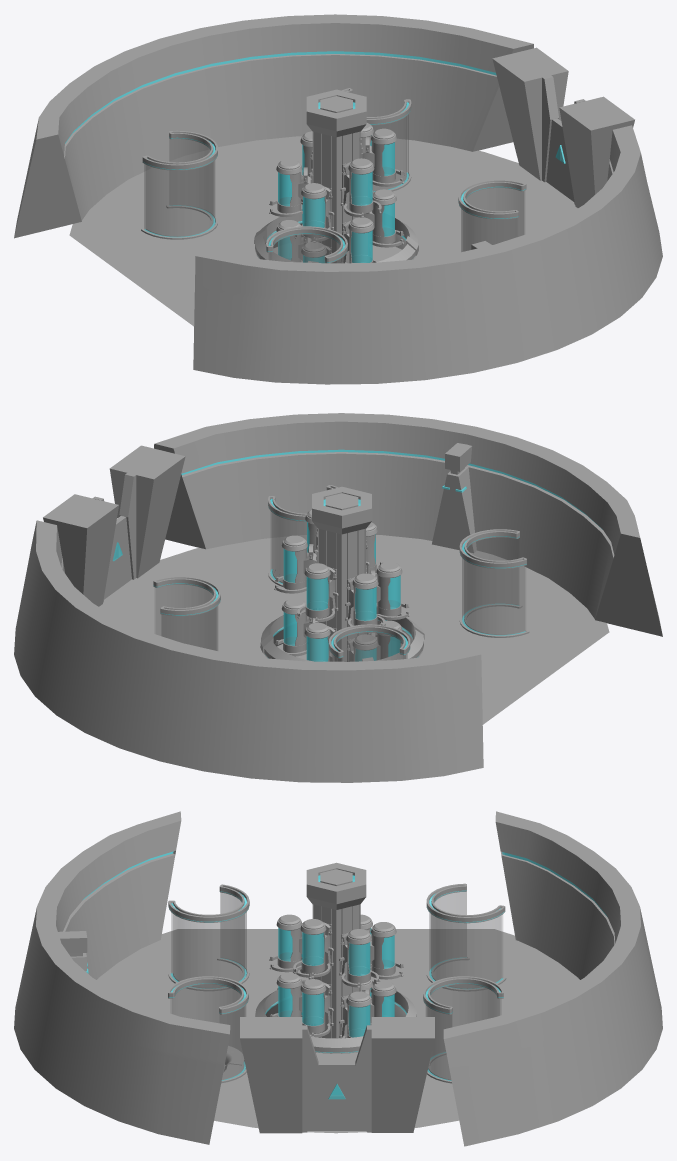
Rendered from L1_RM7_Models with UVs.fbx.
The picture shows the model from 3 angles, top to bottom: view 1: azimuth 30°, elevation 25°; view 2: azimuth 150°, elevation 25°; view 3: azimuth 270°, elevation 25°; orthographic projection.
Visible parts, largest first — view 1: L1_RM7_round_wall2, L1_RM7_round_wall1, L1_RM7_round_ground2, L1_RM7__glass_lab_7, lab_door_room4_left_wall, lab_door_room4_right_wall, L1_RM7_glass_lab_5, RM7_cultivation_tank_column, L1_RM7__glass_lab_6, RM7_cultivation_tank_column_cover, RM7_cultivation_tank_21, L1_RM7__glass_lab_1 (+9 smaller); view 2: L1_RM7_round_wall1, L1_RM7_round_wall2, L1_RM7_round_ground2, L1_RM7__glass_lab_6, lab_door_room4_right_wall, lab_door_room4_left_wall, L1_RM7__glass_lab_1, L1_RM7_wall_column, RM7_cultivation_tank_column, L1_RM7__glass_lab_7, RM7_cultivation_tank_column_cover, RM7_cultivation_tank_16 (+11 smaller); view 3: L1_RM7_round_wall1, L1_RM7_round_wall2, L1_RM7_round_ground2, lab_door_room4_right_wall, lab_door_room4_left_wall, L1_RM7__glass_lab_7, L1_RM7__glass_lab_6, L1_RM7__glass_lab_1, L1_RM7_glass_lab_5, RM7_cultivation_tank_column, RM7_cultivation_tank_column_cover, RM7_cultivation_tank_5 (+11 smaller).
Part boxes in pixels (left/top/right/bottom): L1_RM7_round_wall2: left=193, top=125, right=662, bottom=384; L1_RM7_round_wall1: left=14, top=14, right=533, bottom=238; L1_RM7_round_ground2: left=69, top=136, right=577, bottom=326; L1_RM7__glass_lab_7: left=141, top=130, right=217, bottom=239; lab_door_room4_left_wall: left=492, top=47, right=568, bottom=182; lab_door_room4_right_wall: left=559, top=96, right=634, bottom=207; L1_RM7_glass_lab_5: left=458, top=179, right=526, bottom=251; RM7_cultivation_tank_column: left=312, top=131, right=360, bottom=262; L1_RM7__glass_lab_6: left=266, top=226, right=347, bottom=263; RM7_cultivation_tank_column_cover: left=306, top=89, right=366, bottom=137; RM7_cultivation_tank_21: left=340, top=158, right=381, bottom=217; L1_RM7__glass_lab_1: left=342, top=88, right=411, bottom=192; L1_RM7_round_wall1: left=14, top=520, right=483, bottom=782; L1_RM7_round_wall2: left=154, top=413, right=662, bottom=636; L1_RM7_round_ground2: left=99, top=535, right=609, bottom=724; L1_RM7__glass_lab_6: left=459, top=529, right=529, bottom=637; lab_door_room4_right_wall: left=109, top=445, right=185, bottom=579; lab_door_room4_left_wall: left=43, top=494, right=118, bottom=606; L1_RM7__glass_lab_1: left=153, top=576, right=220, bottom=650; L1_RM7_wall_column: left=432, top=443, right=476, bottom=553; RM7_cultivation_tank_column: left=318, top=528, right=365, bottom=661; L1_RM7__glass_lab_7: left=329, top=624, right=410, bottom=661; RM7_cultivation_tank_column_cover: left=312, top=486, right=371, bottom=534; RM7_cultivation_tank_16: left=297, top=563, right=338, bottom=622; L1_RM7_round_wall1: left=443, top=811, right=662, bottom=1146; L1_RM7_round_wall2: left=14, top=811, right=230, bottom=1144; L1_RM7_round_ground2: left=97, top=929, right=579, bottom=1133; lab_door_room4_right_wall: left=240, top=1017, right=318, bottom=1133; lab_door_room4_left_wall: left=355, top=1017, right=434, bottom=1132; L1_RM7__glass_lab_7: left=426, top=883, right=506, bottom=991; L1_RM7__glass_lab_6: left=168, top=884, right=249, bottom=991; L1_RM7__glass_lab_1: left=423, top=976, right=503, bottom=1083; L1_RM7_glass_lab_5: left=168, top=976, right=248, bottom=1083; RM7_cultivation_tank_column: left=312, top=904, right=360, bottom=1038; RM7_cultivation_tank_column_cover: left=306, top=862, right=366, bottom=909; RM7_cultivation_tank_5: left=293, top=919, right=333, bottom=977.
Size of the model in its own units: 5565 by 1876 by 6385.
